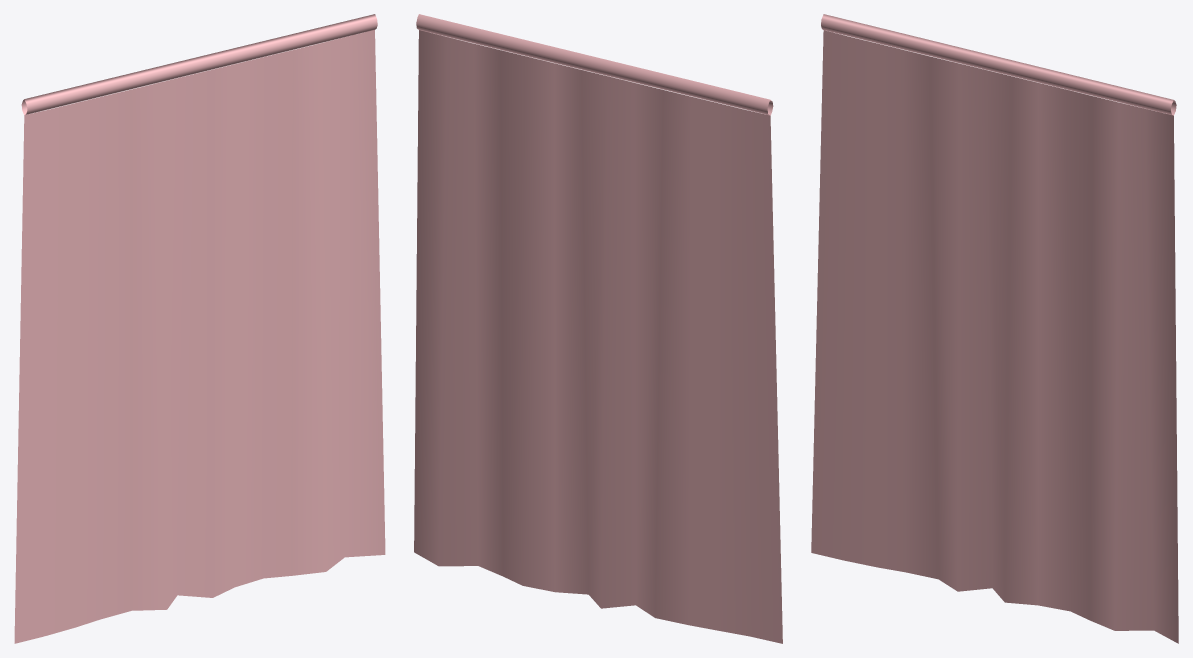
The model's file is LV29_curtain.fbx.
The picture shows the model from 3 angles, left to right: view 1: azimuth 30°, elevation 25°; view 2: azimuth 150°, elevation 25°; view 3: azimuth 330°, elevation 25°; orthographic projection.
Parts seen in each view (by area): view 1: curtain; view 2: curtain; view 3: curtain.
Part boxes in pixels (x1,y1,x2,y2): curtain: (14, 14, 385, 643); curtain: (414, 14, 782, 643); curtain: (811, 14, 1178, 643).
Bounding box in the file's own units: 152 × 213 × 9.31.
